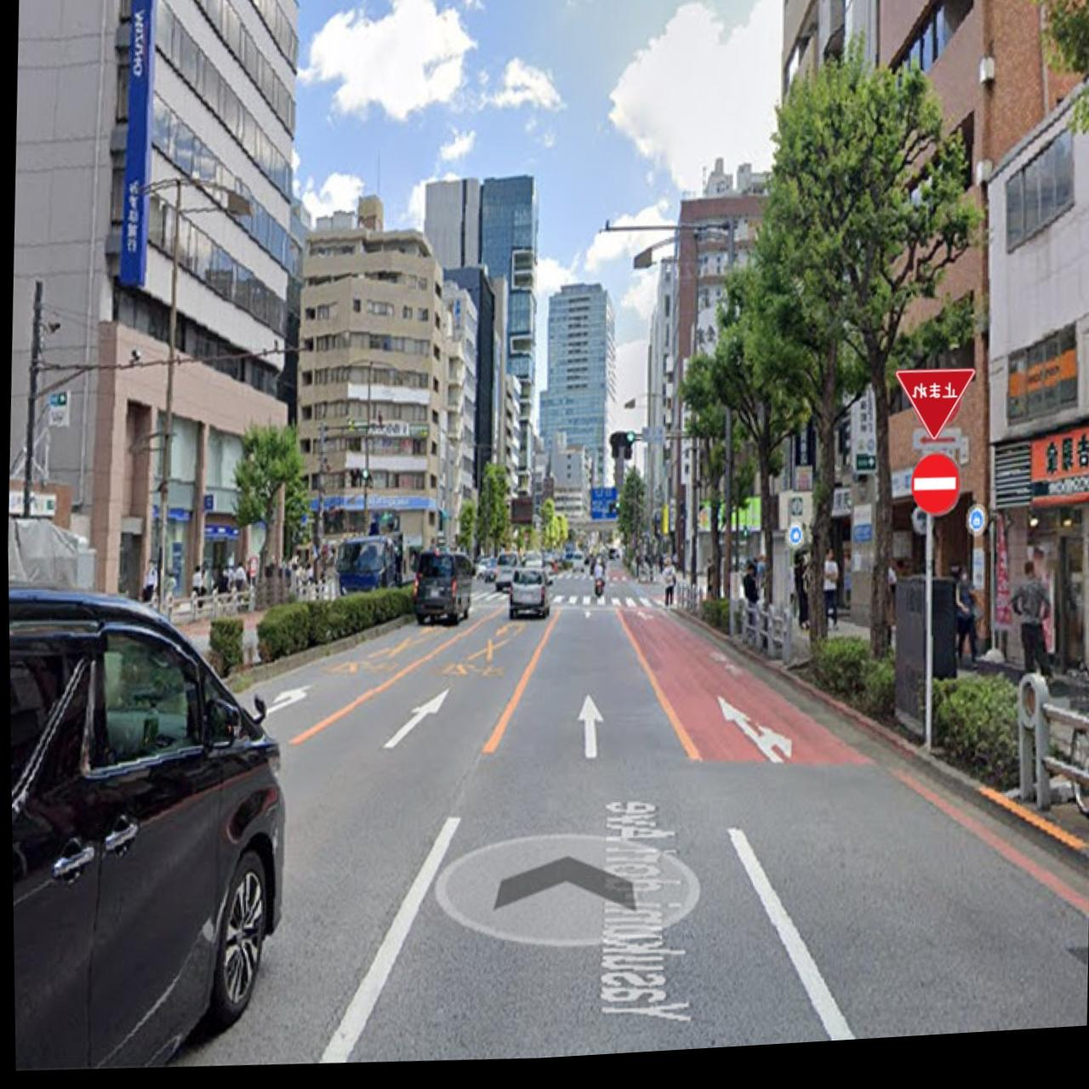barrier: (905, 450, 963, 519)
